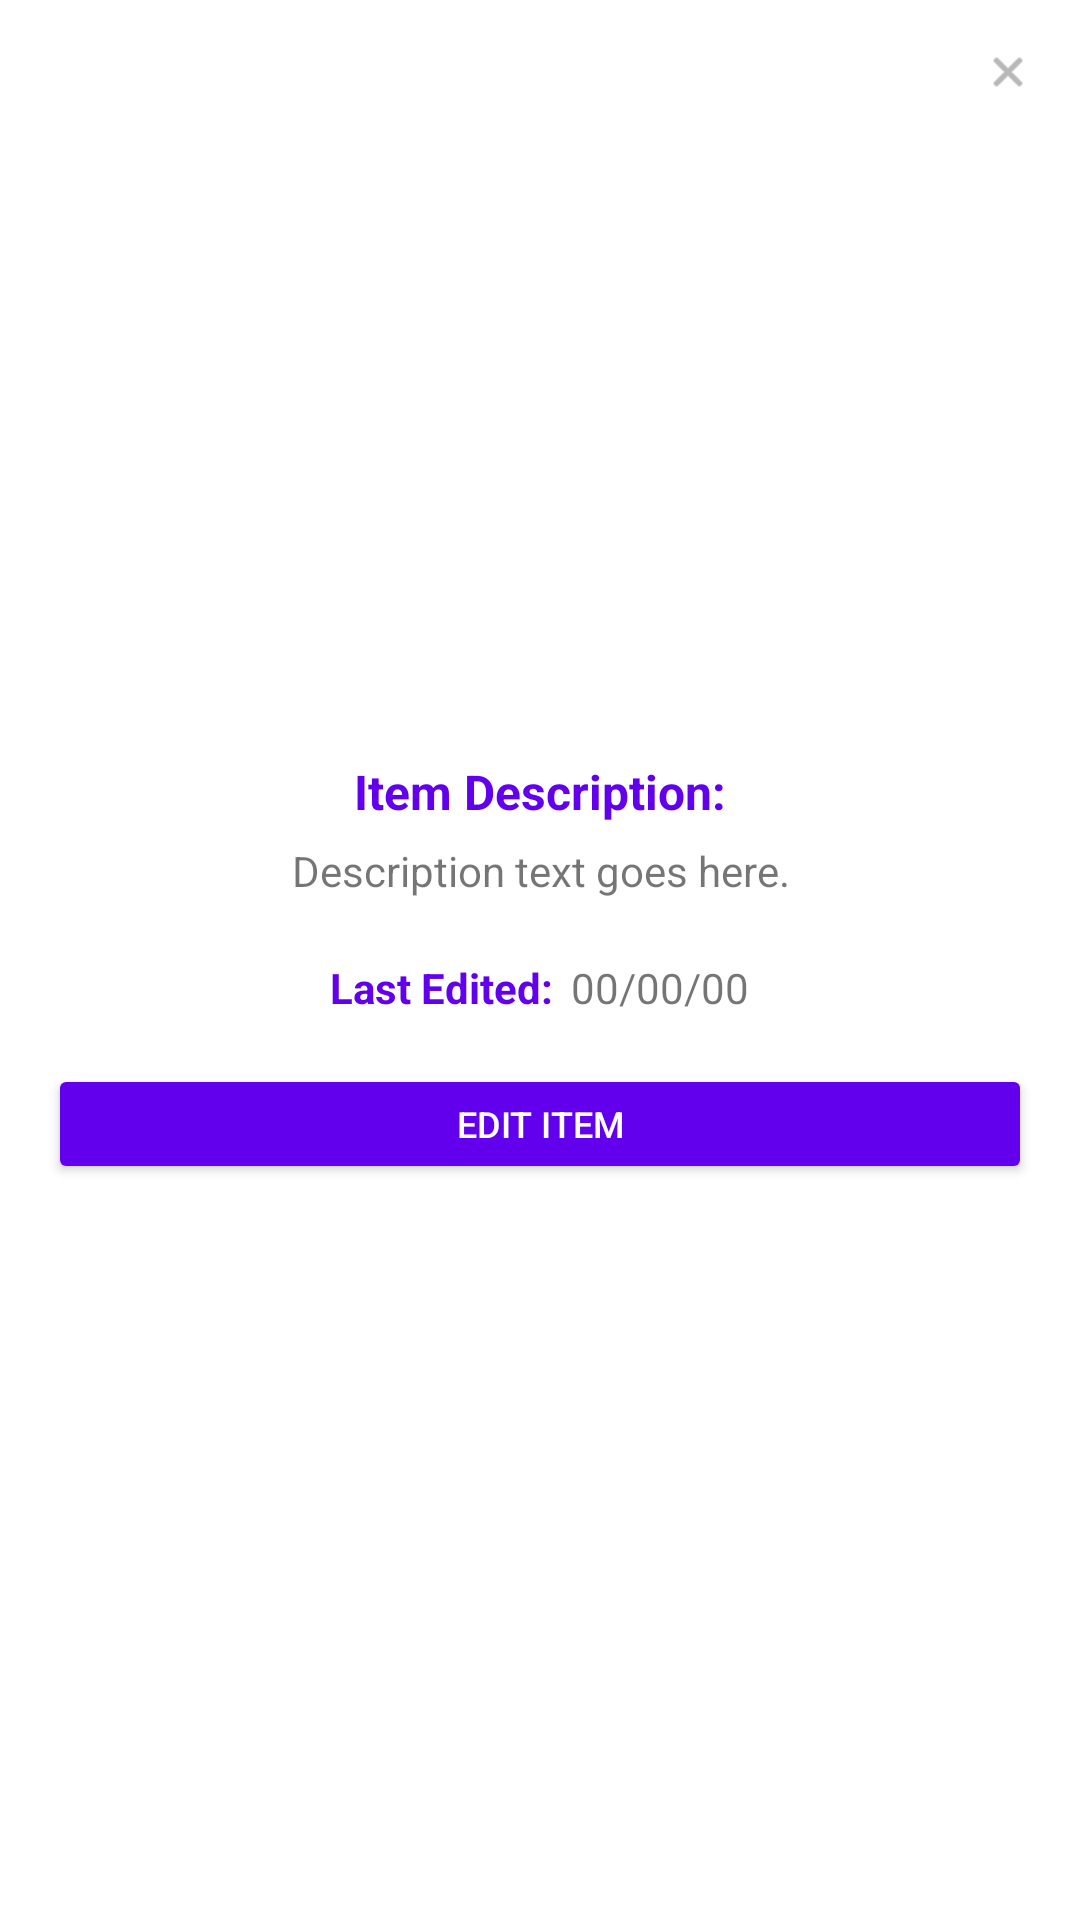

Icons on this 1080 x 1920 Android screen, each with its box as bbox=[x1, y1, x2, y2]:
close clear cancel: bbox=[993, 57, 1023, 87]
